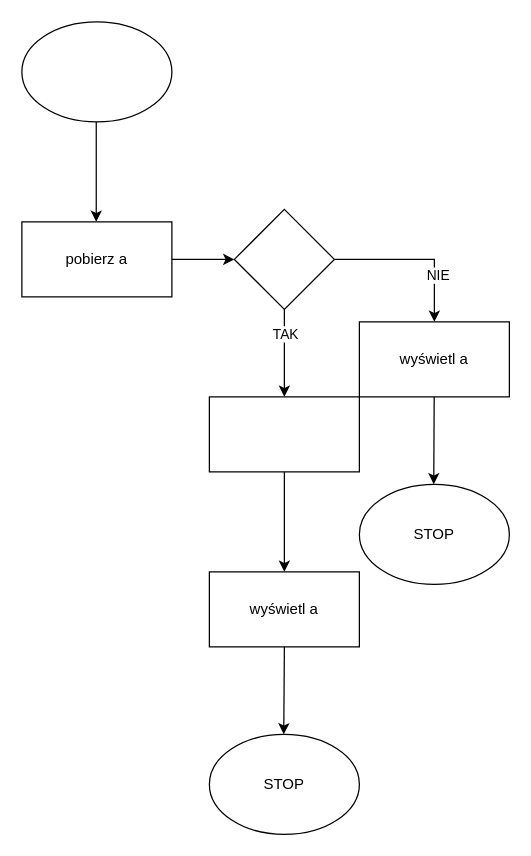
The diagram is 531 pixels wide and 856 high, and some of its shapes have lost their labels. The centre of each missing label's shape, as x and y in pixels:
a * (-1): the point at 283,434
a < 0: the point at 283,258
START: the point at 96,71
